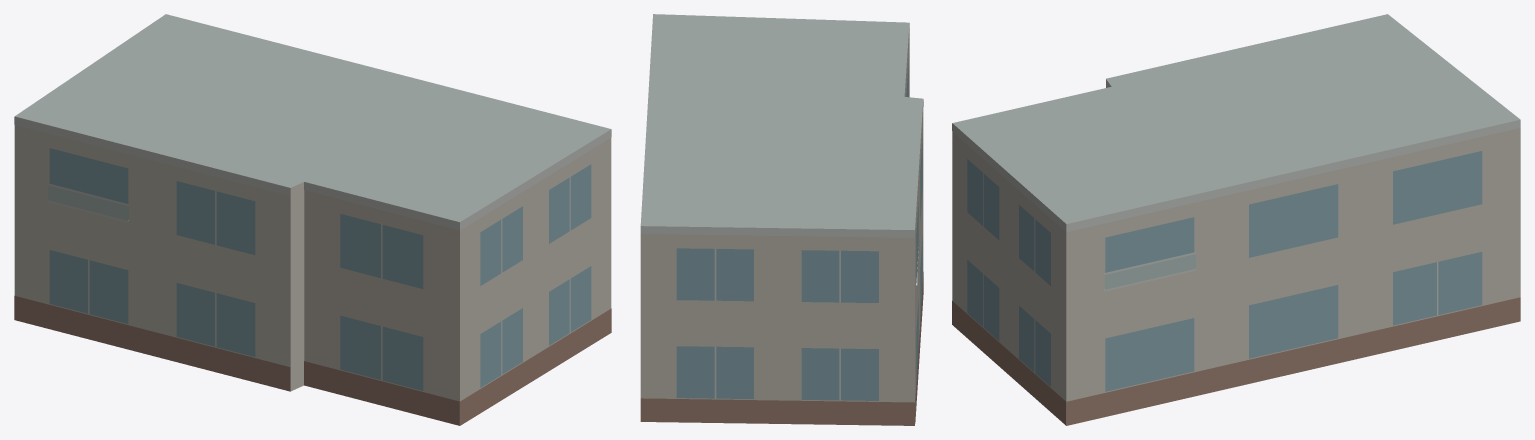
The model's file is survey-upis-32890317.glb.
3 renders of one model, left to right at view 1: azimuth 30°, elevation 25°; view 2: azimuth 150°, elevation 25°; view 3: azimuth 270°, elevation 25°, orthographic. The views are drawn at different scales.
Visible parts, largest first — view 1: survey-upis-32890317.tmp; view 2: survey-upis-32890317.tmp; view 3: survey-upis-32890317.tmp.
Boxes of the visible parts, x1,y1,x2,y2 form: survey-upis-32890317.tmp: (14, 14, 611, 425); survey-upis-32890317.tmp: (640, 14, 923, 425); survey-upis-32890317.tmp: (952, 14, 1520, 425).
Size of the model in its own units: 13.64 by 6.1 by 15.59.
